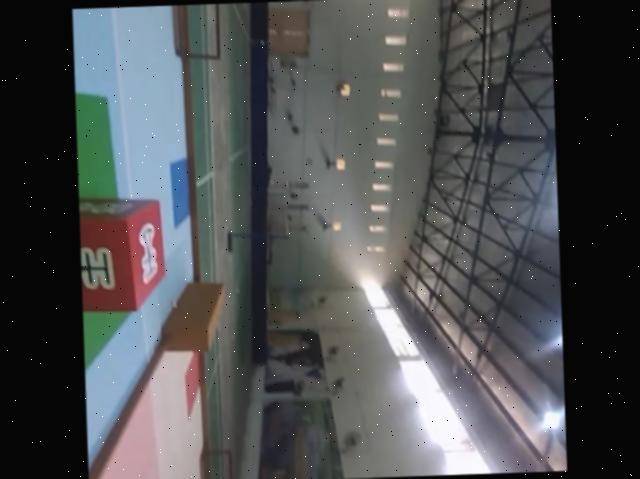R2 Real: (79, 194, 171, 316)
